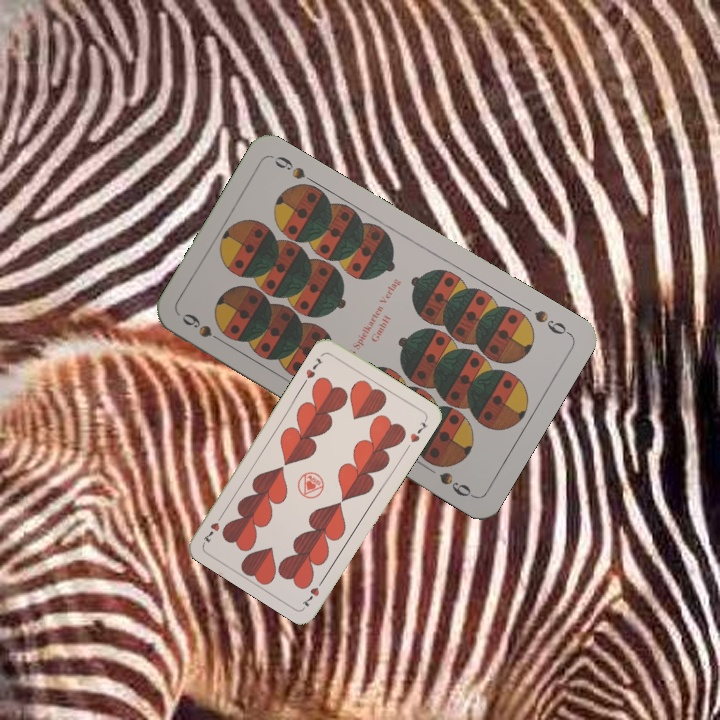H7: (298, 574, 327, 610), (302, 354, 325, 381)
S9: (178, 309, 230, 348), (530, 306, 573, 338)
